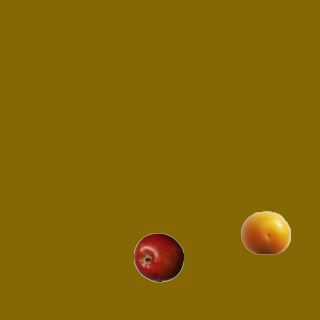Apple Braeburn: (133, 232, 183, 282)
Cherry Wax Yellow: (240, 207, 290, 257)
